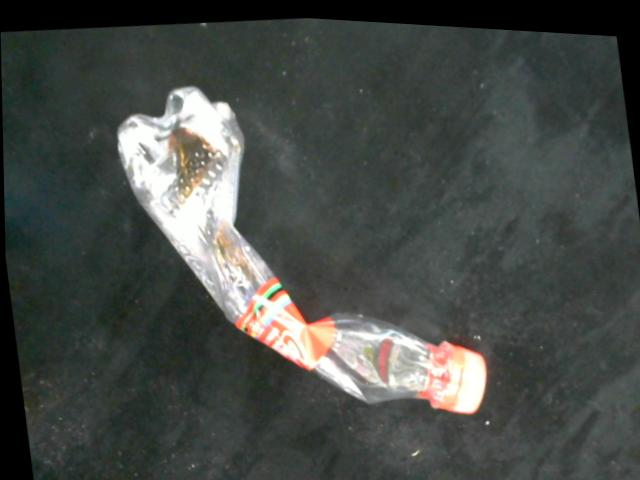bottle: (116, 79, 489, 412)
